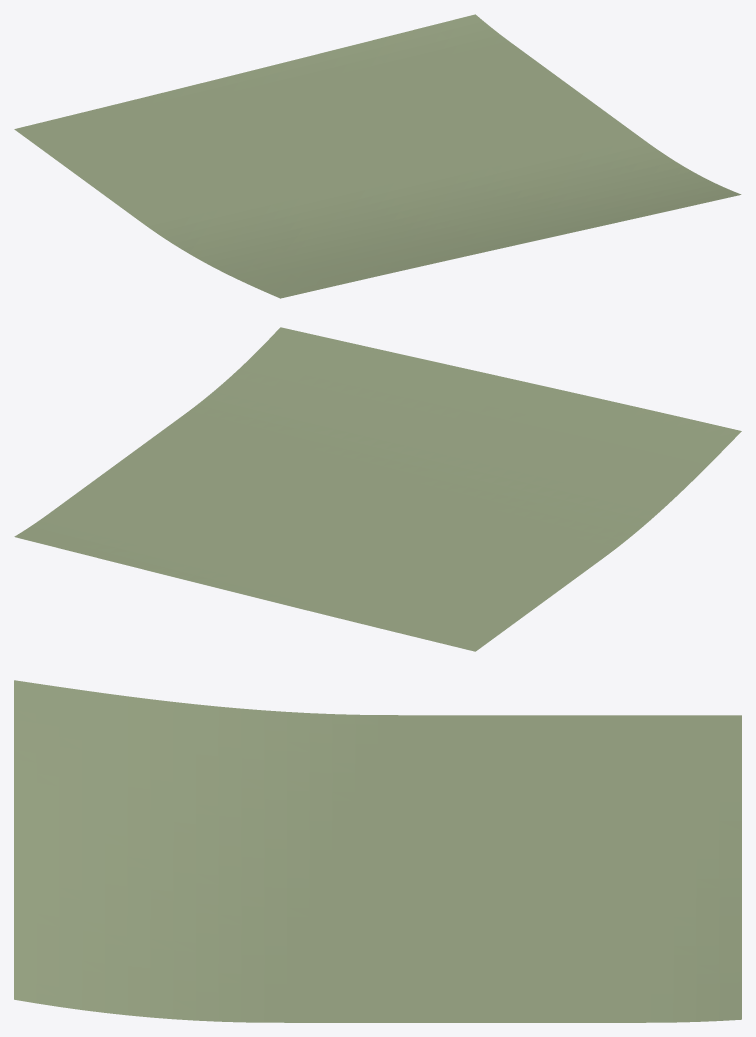
Rendered from valley-1-8.glb.
3 views of the same model, one above another, from view 1: azimuth 30°, elevation 25°; view 2: azimuth 150°, elevation 25°; view 3: azimuth 270°, elevation 25° (orthographic). The views are drawn at different scales.
Parts seen in each view (by area): view 1: valley-1-8; view 2: valley-1-8; view 3: valley-1-8.
Boxes of the visible parts, x1=… form: valley-1-8: x1=14, y1=14, x2=741, y2=298; valley-1-8: x1=14, y1=327, x2=741, y2=651; valley-1-8: x1=14, y1=680, x2=741, y2=1022.
Bounding box in the file's own units: 256 × 13.58 × 256.
